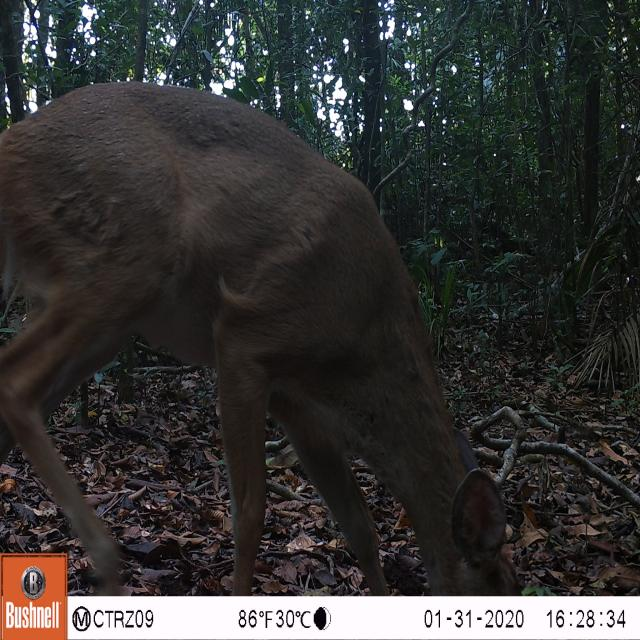White-tailed Deer: (0, 71, 533, 592)
